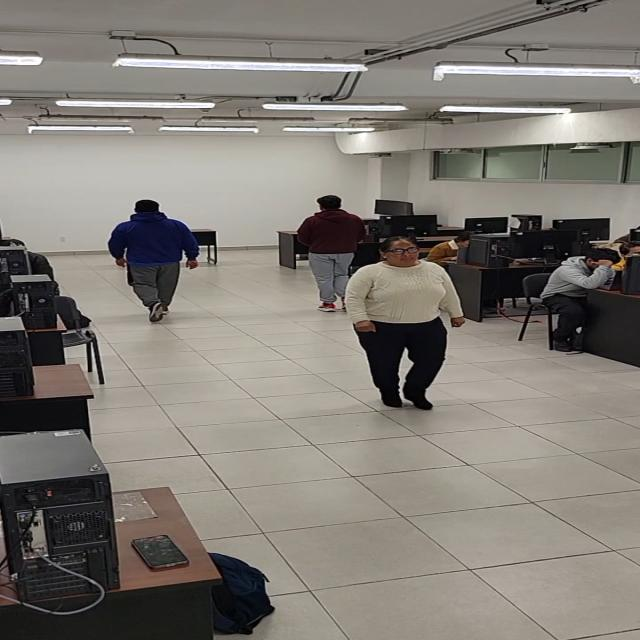Persona: (340, 234, 464, 414), (104, 194, 204, 328), (291, 193, 366, 312)
